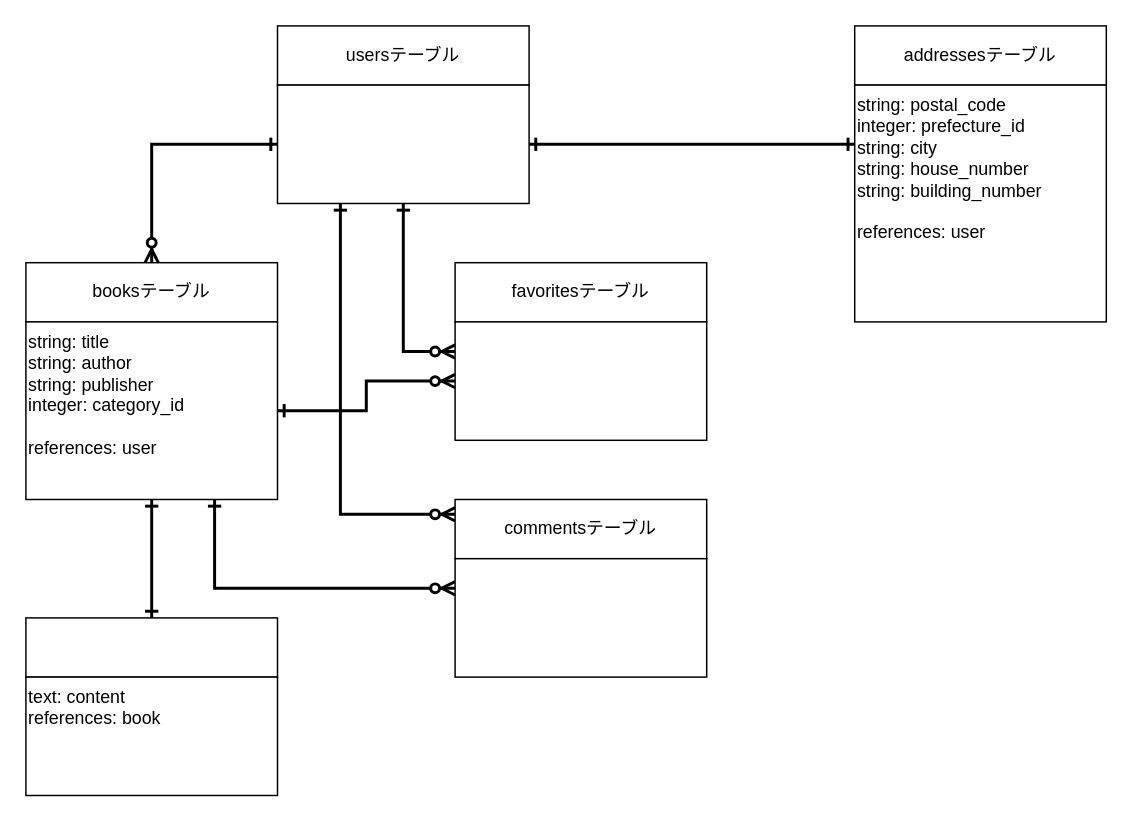
This 1132x821 diagram has some shape labels left out. The box of each missing label's shape, as (x1, y1, x2, y2) in pixels:
references: user references: book: (454, 320, 707, 440)
reviewsテーブル: (24, 616, 278, 677)
string: nickname string: email string: encrypted_password date: birth_date: (276, 84, 529, 204)
text: comment references: user references: book: (454, 557, 707, 677)
